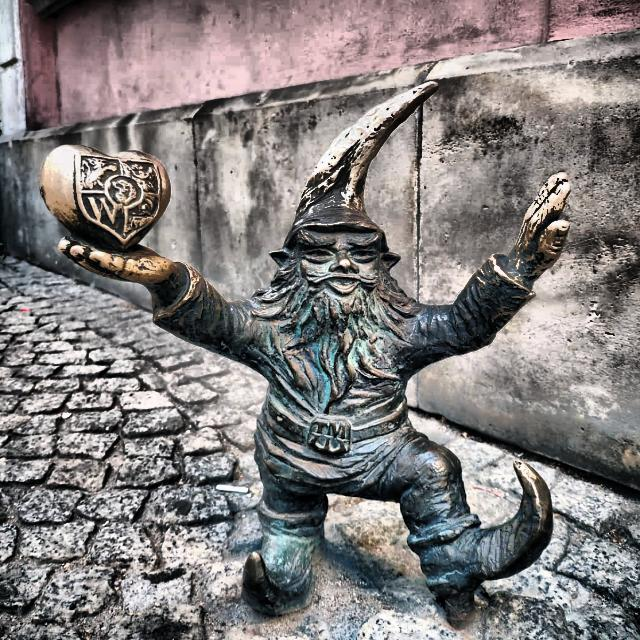WrocLovek: (38, 78, 636, 614)
